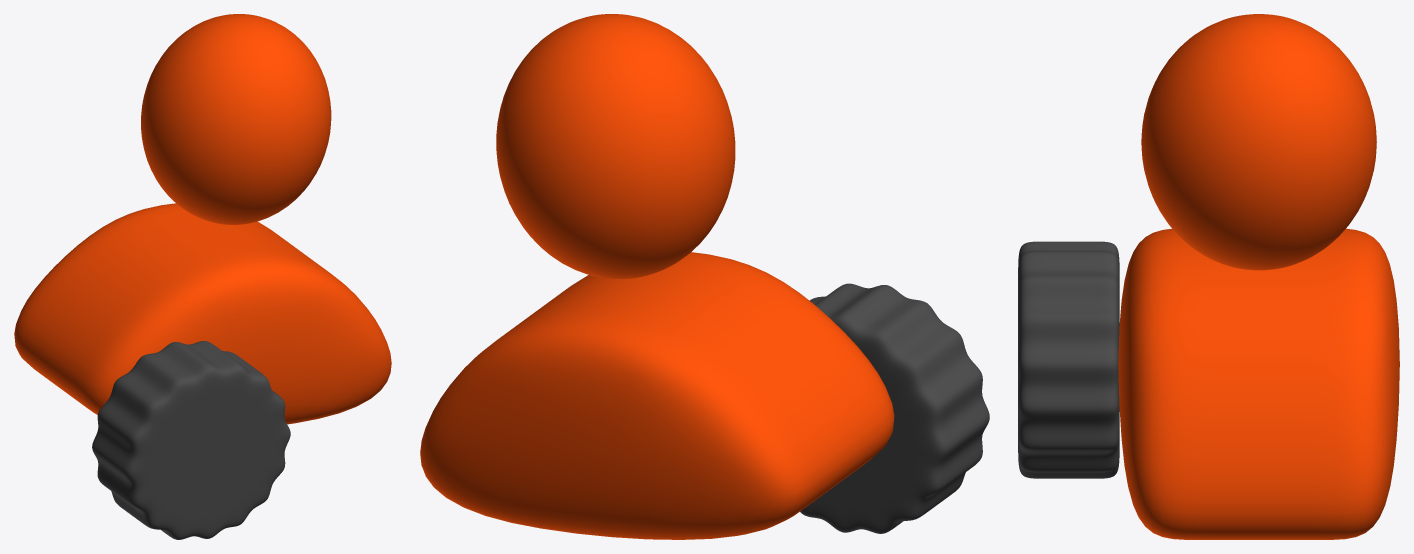
File: verified-user-animated-3d-icon-1700353639809.glb
The picture shows the model from 3 angles, left to right: view 1: azimuth 30°, elevation 25°; view 2: azimuth 150°, elevation 25°; view 3: azimuth 270°, elevation 25°; orthographic projection. The views are drawn at different scales.
Parts seen in each view (by area): view 1: User.004, Circle.004; view 2: User.004, Circle.004; view 3: User.004, Circle.004.
Part boxes in pixels (x1,y1,x2,y2): User.004: (14,14,391,424); Circle.004: (92,341,290,539); User.004: (420,14,894,539); Circle.004: (800,283,989,533); User.004: (1118,14,1399,539); Circle.004: (1018,241,1119,478).
Size of what is drawn, in the model's own units: 2.02 by 2.51 by 1.68.
